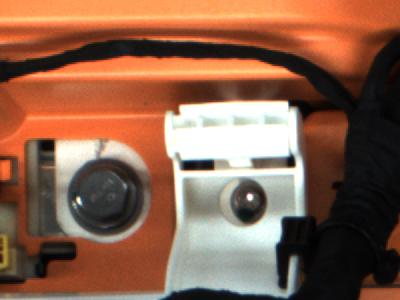nut_b: (62, 157, 156, 238)
